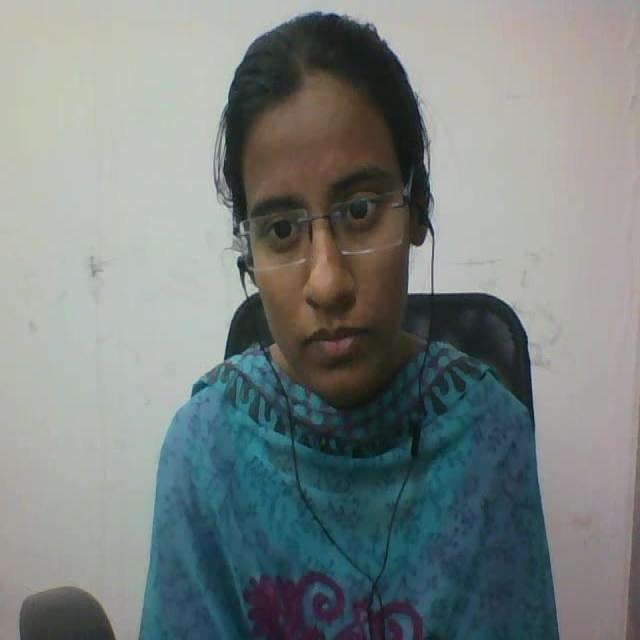Engaged: (182, 5, 476, 422)
